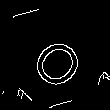O_NE: (21, 22, 89, 88)
